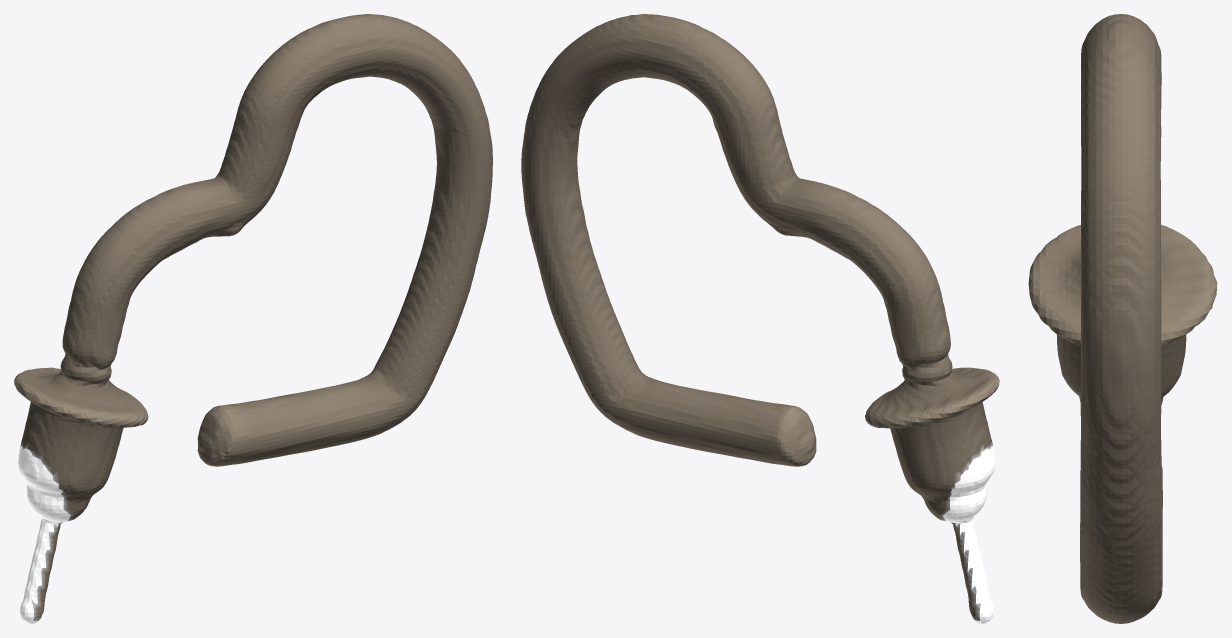
3 views of the same model, side by side, from view 1: azimuth 30°, elevation 25°; view 2: azimuth 150°, elevation 25°; view 3: azimuth 270°, elevation 25° (orthographic). The views are drawn at different scales.
Parts seen in each view (by area): view 1: metal, stone; view 2: metal, stone; view 3: metal.
Part boxes in pixels (left/top/right/bottom): metal: left=14, top=14, right=492, bottom=621; stone: left=18, top=446, right=70, bottom=623; metal: left=521, top=14, right=999, bottom=622; stone: left=943, top=446, right=995, bottom=623; metal: left=1028, top=14, right=1217, bottom=623.
Size of the model in its own units: 1.81 by 1.96 by 0.4699.
